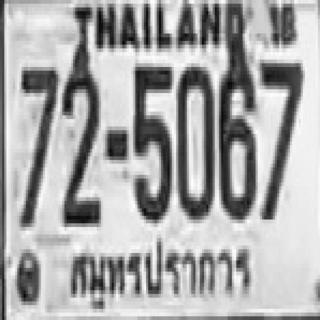N00: (176, 63, 212, 216)
N02: (60, 63, 99, 223)
N05: (132, 63, 171, 220)
N06: (217, 60, 253, 216)
N07: (259, 60, 302, 216), (18, 63, 57, 223), (19, 63, 56, 201)
P57: (66, 238, 256, 302)
